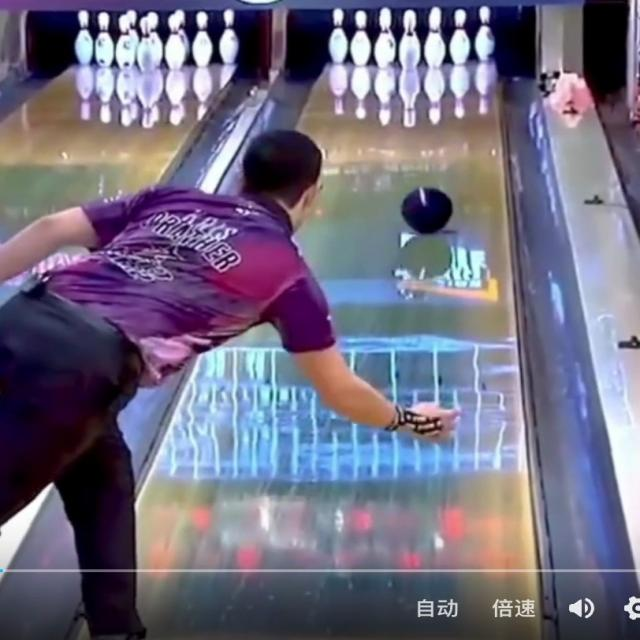alley: (138, 62, 539, 639)
balls: (400, 187, 452, 234)
bottle: (329, 7, 445, 69), (448, 8, 470, 65), (473, 6, 494, 62)
